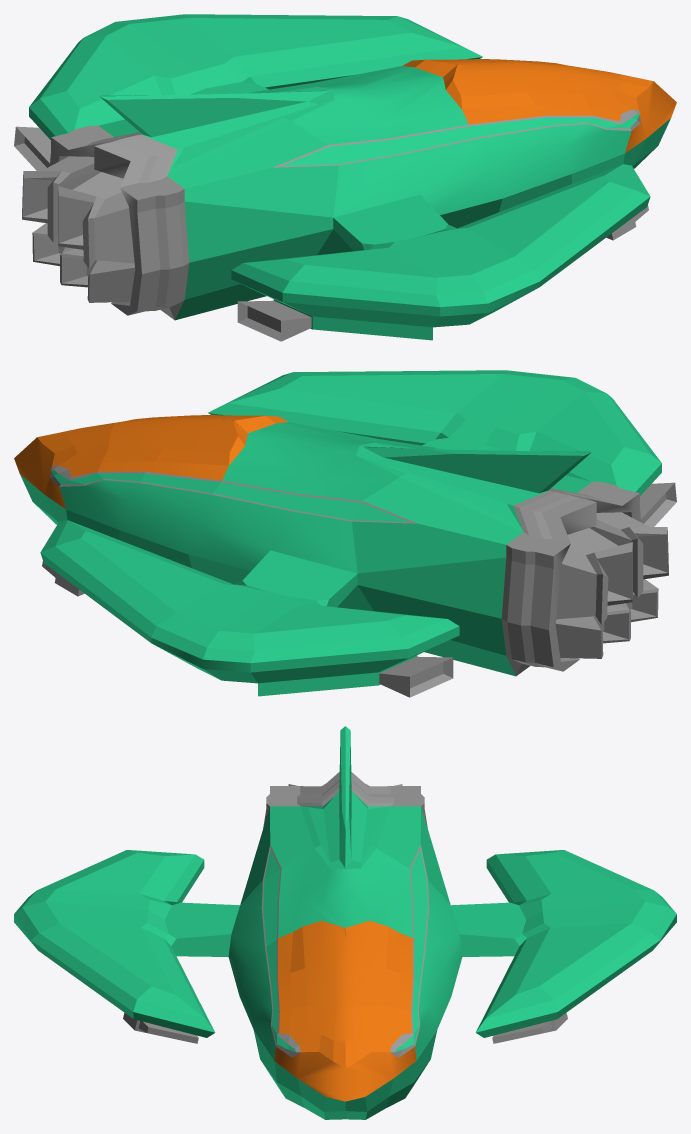
File: G_Spaceship.FBX
The picture shows the model from 3 angles, top to bottom: view 1: azimuth 30°, elevation 25°; view 2: azimuth 150°, elevation 25°; view 3: azimuth 270°, elevation 25°; orthographic projection. The views are drawn at different scales.
Visible parts, largest first — view 1: Box001; view 2: Box001; view 3: Box001.
Boxes of the visible parts, box(x1,y1,x2,y2) form: Box001: box(14, 14, 676, 341); Box001: box(14, 370, 676, 697); Box001: box(14, 726, 676, 1119).
Size of the model in its own units: 187 by 64.98 by 196.
